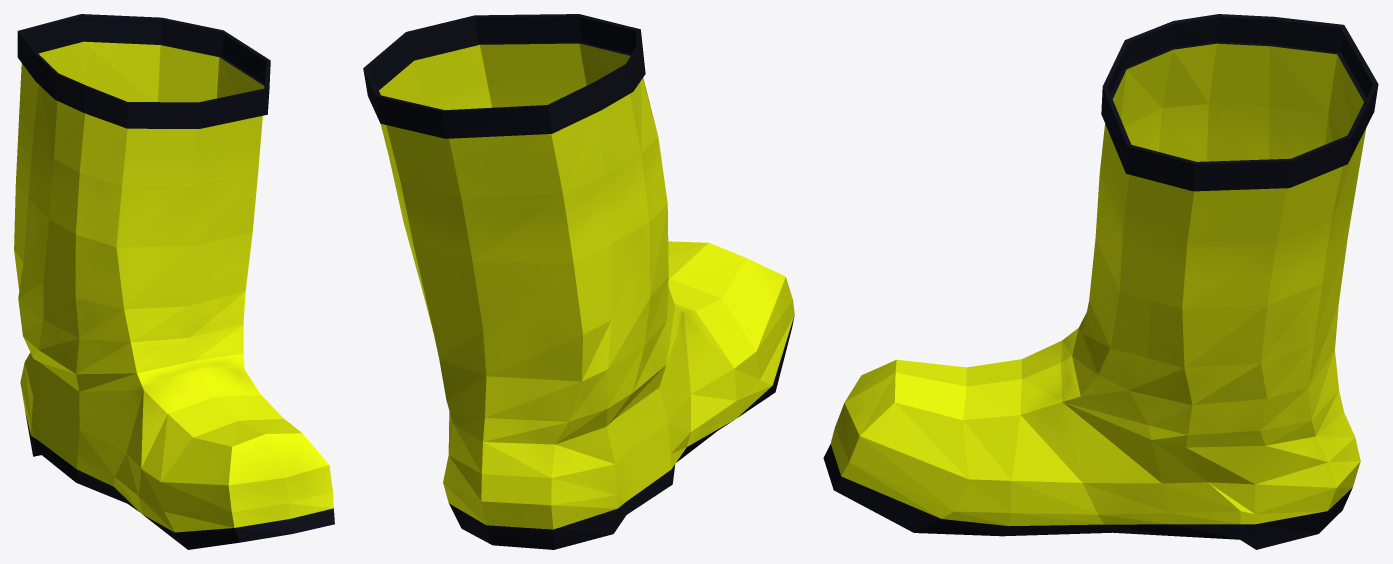
Rendered from Rain Boots.fbx.
3 views of the same model, side by side, from view 1: azimuth 30°, elevation 25°; view 2: azimuth 150°, elevation 25°; view 3: azimuth 270°, elevation 25° (orthographic). The views are drawn at different scales.
Parts seen in each view (by area): view 1: Cube; view 2: Cube; view 3: Cube.
Boxes of the visible parts, x1,y1,x2,y2 form: Cube: (14, 14, 334, 549); Cube: (363, 14, 794, 549); Cube: (823, 14, 1378, 549).
Size of the model in its own units: 19.9 by 34.72 by 37.6.
